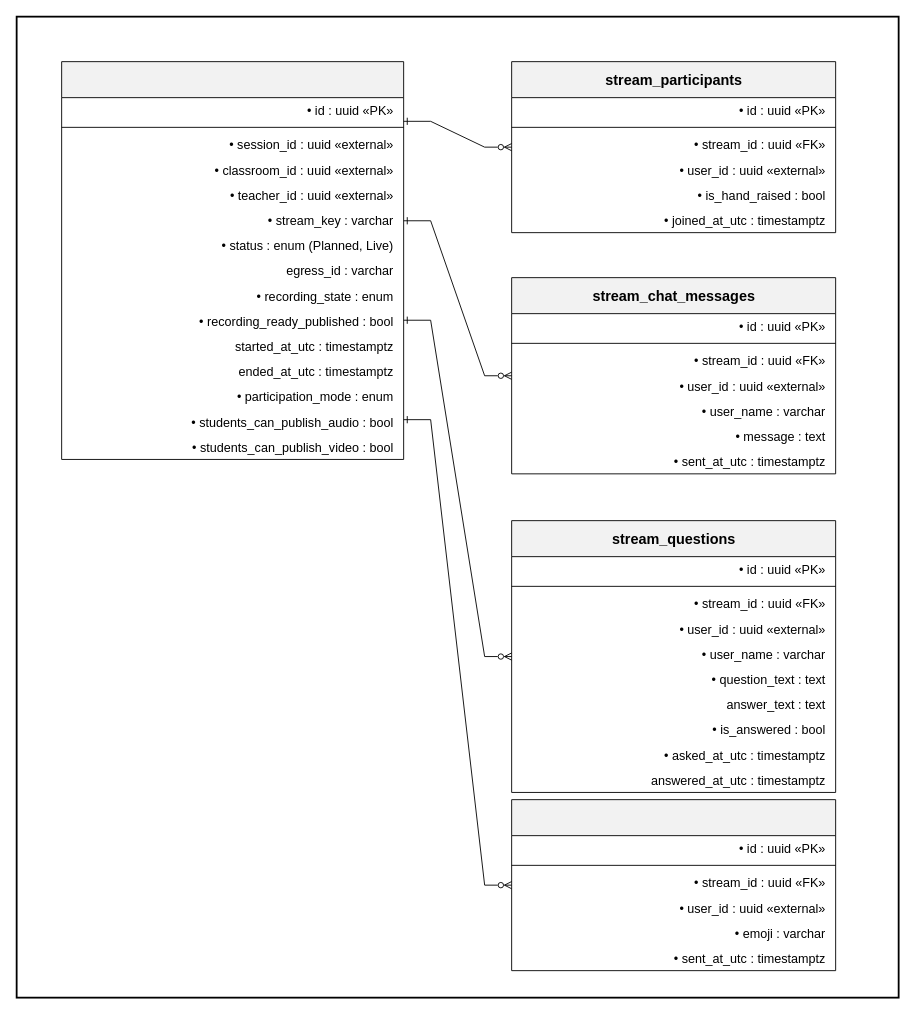
Image size: 914x1013. Some labels were removed from this diagram. Each missing label, with the box of its shape:
live_streams: (61, 61, 404, 459)
stream_reactions: (511, 799, 836, 971)
